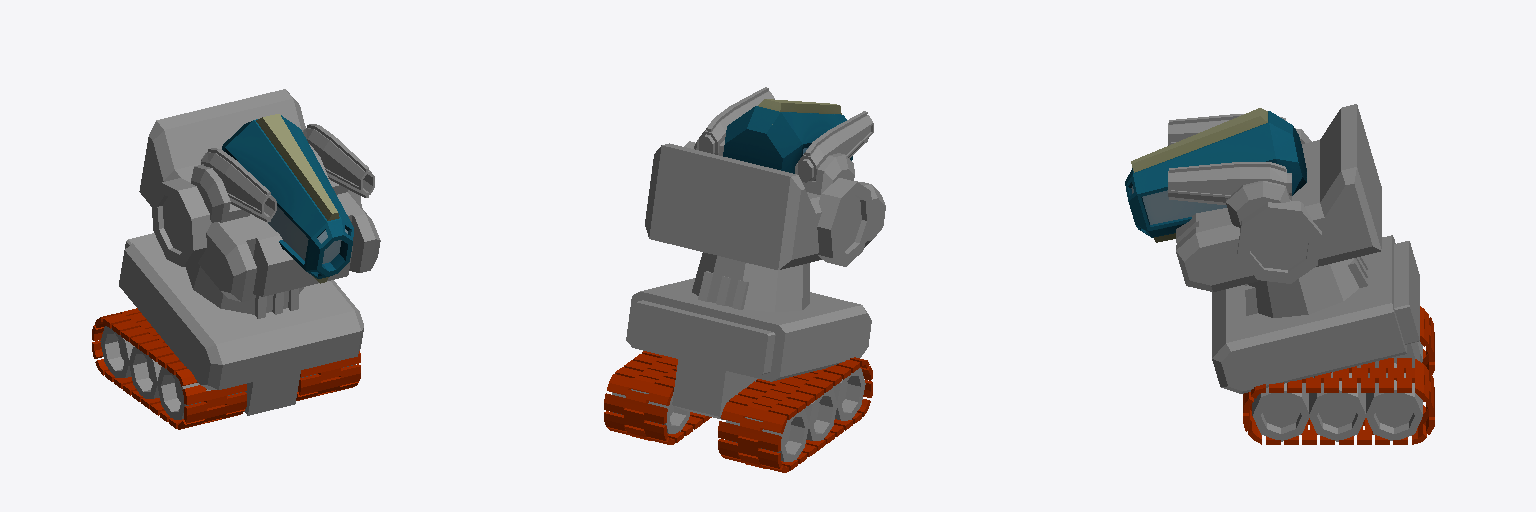
3 views of the same model, side by side, from view 1: azimuth 30°, elevation 25°; view 2: azimuth 150°, elevation 25°; view 3: azimuth 270°, elevation 25° (orthographic).
Parts seen in each view (by area): view 1: Object004, Box038, Object012, Object011, Box042; view 2: Object004, Box038, Box042, Object011, Object012; view 3: Object004, Object011, Box042, Object012, Box038.
Boxes of the visible parts, x1=… form: Object004: x1=119, y1=89, x2=380, y2=415; Box038: x1=92, y1=308, x2=246, y2=429; Object012: x1=201, y1=124, x2=374, y2=222; Object011: x1=100, y1=326, x2=355, y2=419; Box042: x1=296, y1=351, x2=360, y2=400; Object004: x1=626, y1=99, x2=885, y2=419; Box038: x1=718, y1=357, x2=872, y2=472; Box042: x1=604, y1=351, x2=711, y2=444; Object011: x1=612, y1=368, x2=865, y2=461; Object012: x1=699, y1=87, x2=873, y2=182; Object004: x1=1125, y1=104, x2=1419, y2=393; Object011: x1=1252, y1=341, x2=1422, y2=441; Box042: x1=1243, y1=358, x2=1434, y2=444; Object012: x1=1168, y1=114, x2=1291, y2=204; Box038: x1=1420, y1=306, x2=1434, y2=374.
Bounding box in the file's own units: 110 × 177 × 169.
4 materials, 1 textured.